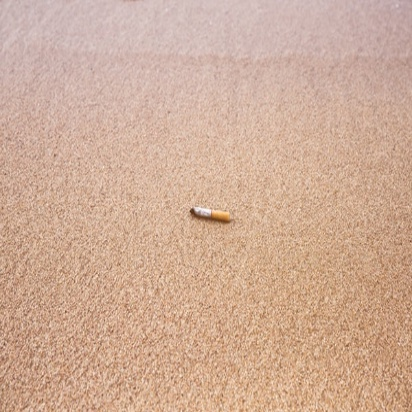cigarette: (186, 203, 242, 232)
